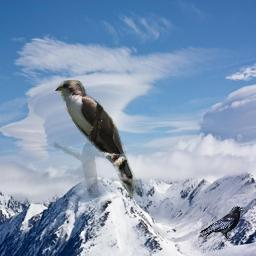Crow: (197, 205, 246, 242)
Cuckoo: (54, 80, 143, 198)
